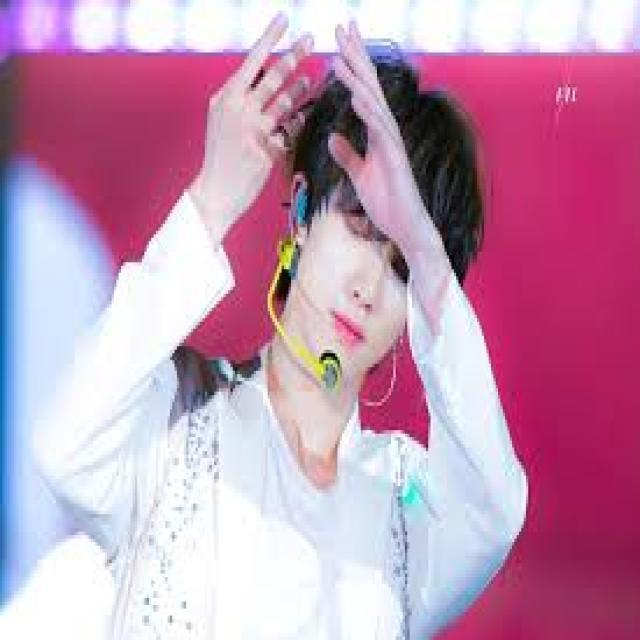earphone: (278, 170, 318, 245)
